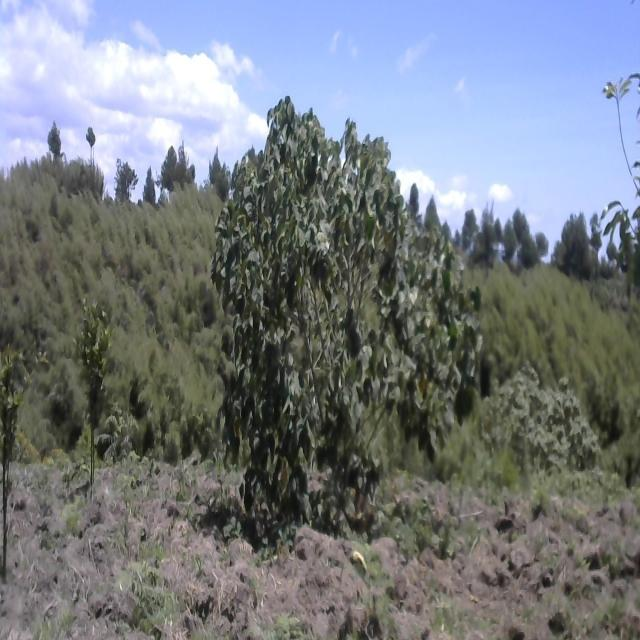other: (203, 80, 456, 574)
